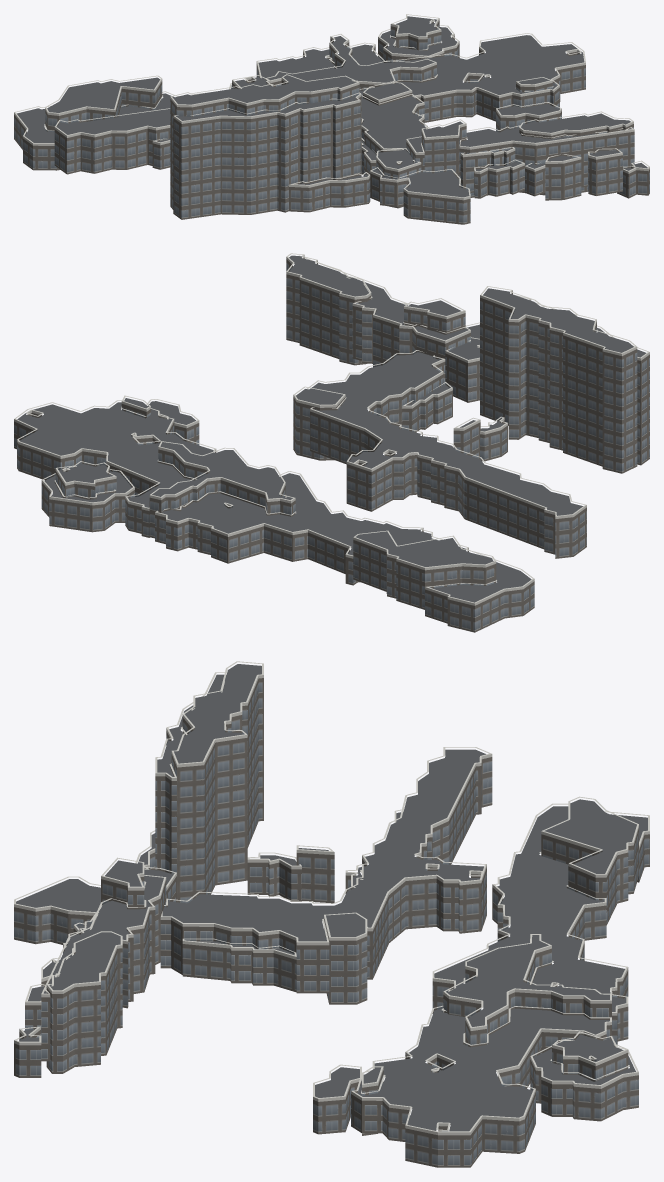
File: pukaki-hermitage.glb
The picture shows the model from 3 angles, top to bottom: view 1: azimuth 30°, elevation 25°; view 2: azimuth 150°, elevation 25°; view 3: azimuth 270°, elevation 25°; orthographic projection. The views are drawn at different scales.
Parts seen in each view (by area): view 1: Hermitage; view 2: Hermitage; view 3: Hermitage.
Part boxes in pixels (x1,y1,x2,y2): Hermitage: (14, 14, 649, 224); Hermitage: (14, 253, 649, 632); Hermitage: (14, 661, 649, 1167).
Bounding box in the file's own units: 145 × 41.5 × 117.
Materials: 3 (1 with a texture image).
